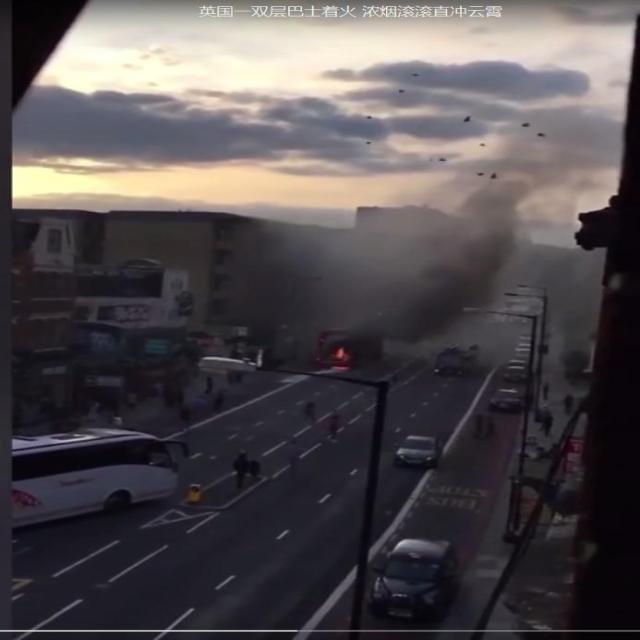Smoke: (255, 140, 616, 374)
